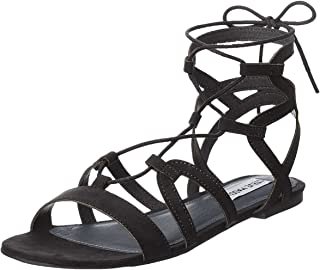shoes: (1, 1, 319, 268)
